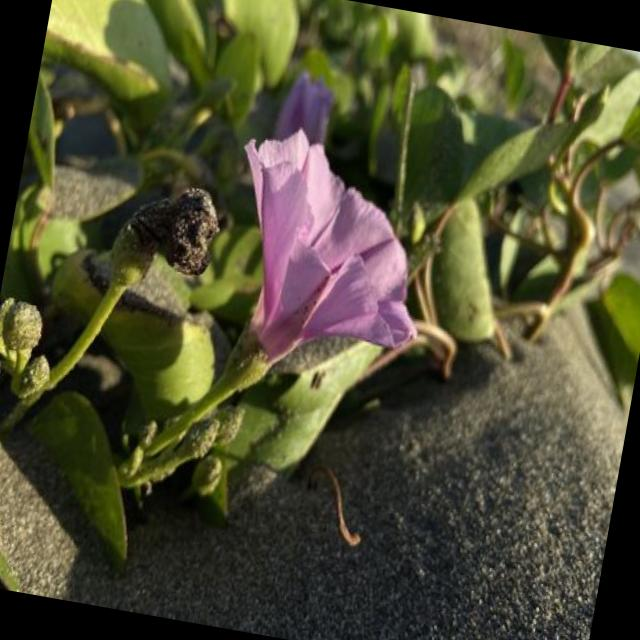ipomoea: (202, 114, 452, 396), (0, 294, 22, 555)
